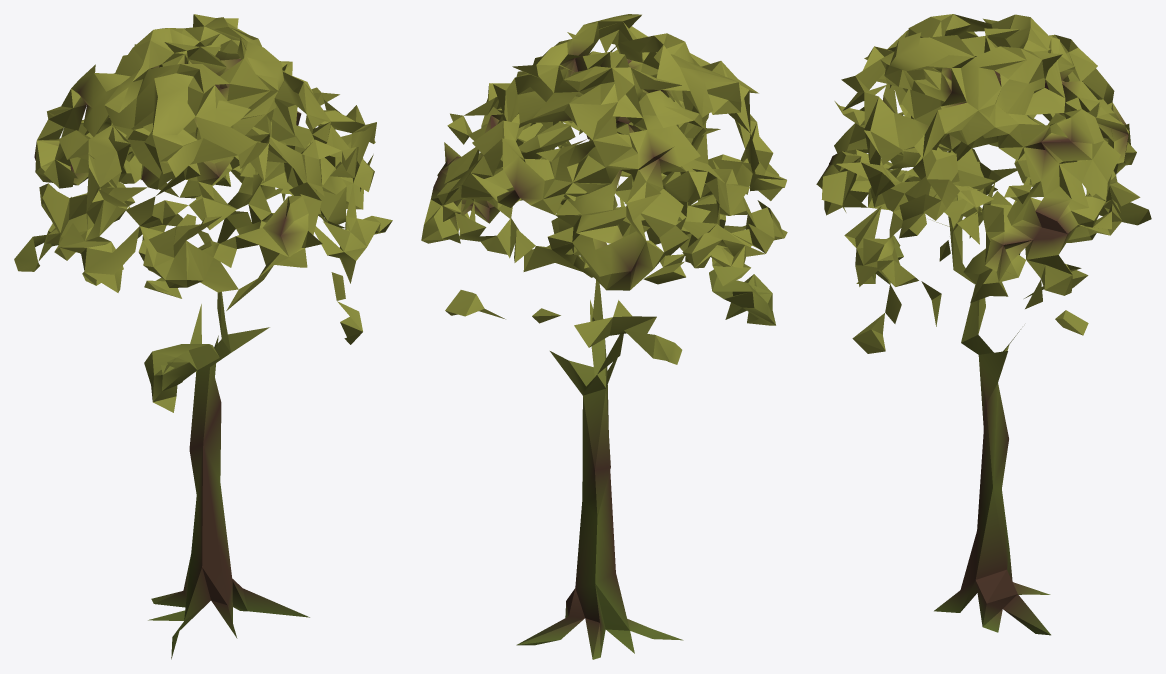
3 renders of one model, left to right at view 1: azimuth 30°, elevation 25°; view 2: azimuth 150°, elevation 25°; view 3: azimuth 270°, elevation 25°, orthographic. The views are drawn at different scales.
Parts seen in each view (by area): view 1: output_unwrapped; view 2: output_unwrapped; view 3: output_unwrapped.
Boxes of the visible parts, x1,y1,x2,y2 form: output_unwrapped: (14,14,392,659); output_unwrapped: (421,14,787,659); output_unwrapped: (816,14,1151,635).
Size of the model in its own units: 1.02 by 1.84 by 0.9441.
